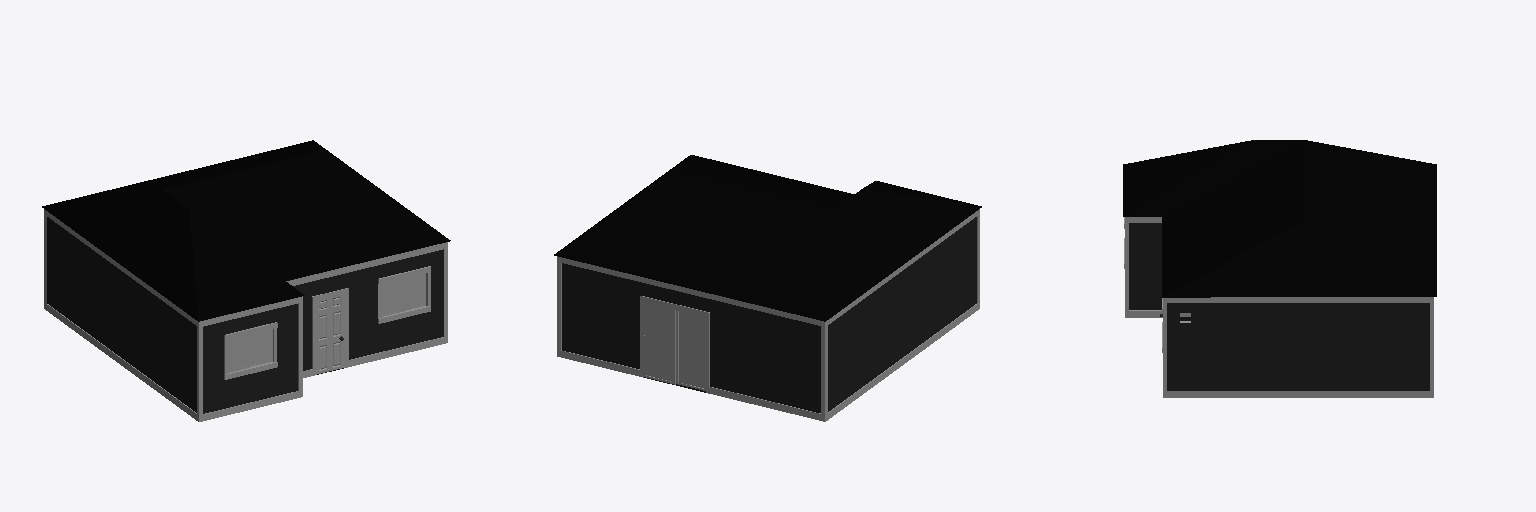
3 renders of one model, left to right at view 1: azimuth 30°, elevation 25°; view 2: azimuth 150°, elevation 25°; view 3: azimuth 270°, elevation 25°, orthographic.
Parts seen in each view (by area): view 1: Vert, Cube.004, Vert.004, Vert.003; view 2: Vert, Vert.002; view 3: Vert.
Boxes of the visible parts, box(x1,y1,x2,y2) form: Vert: box(42, 140, 450, 421); Cube.004: box(316, 293, 344, 374); Vert.004: box(250, 329, 272, 366); Vert.003: box(404, 273, 425, 310); Vert: box(554, 155, 981, 421); Vert.002: box(644, 302, 675, 384); Vert: box(1123, 140, 1436, 397).
Bounding box in the file's own units: 16.55 × 8.9 × 16.55.